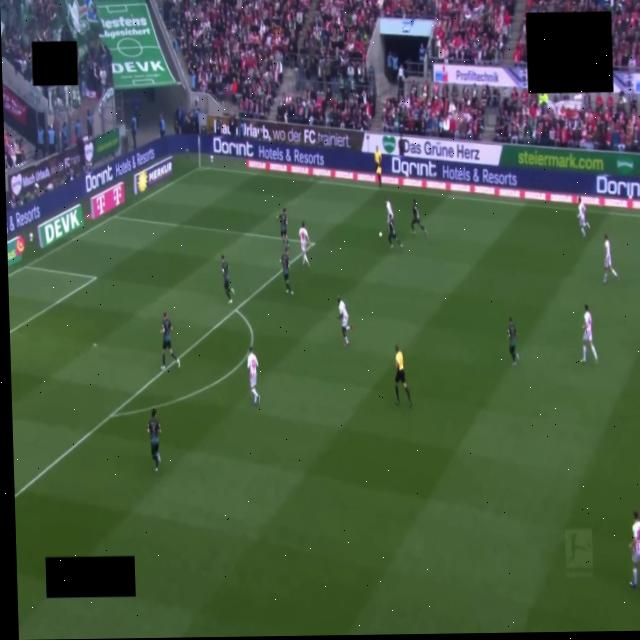ball: (379, 232, 382, 237)
player: (161, 312, 180, 370), (628, 511, 640, 591), (581, 304, 597, 363), (148, 410, 161, 472), (338, 296, 353, 346), (603, 234, 618, 283), (248, 347, 260, 404), (221, 256, 234, 304), (411, 200, 427, 236), (508, 318, 519, 366), (281, 252, 293, 295), (278, 208, 289, 250), (578, 197, 589, 237), (299, 222, 309, 266), (388, 218, 402, 248), (386, 200, 393, 222)
referee: (395, 345, 411, 406)
